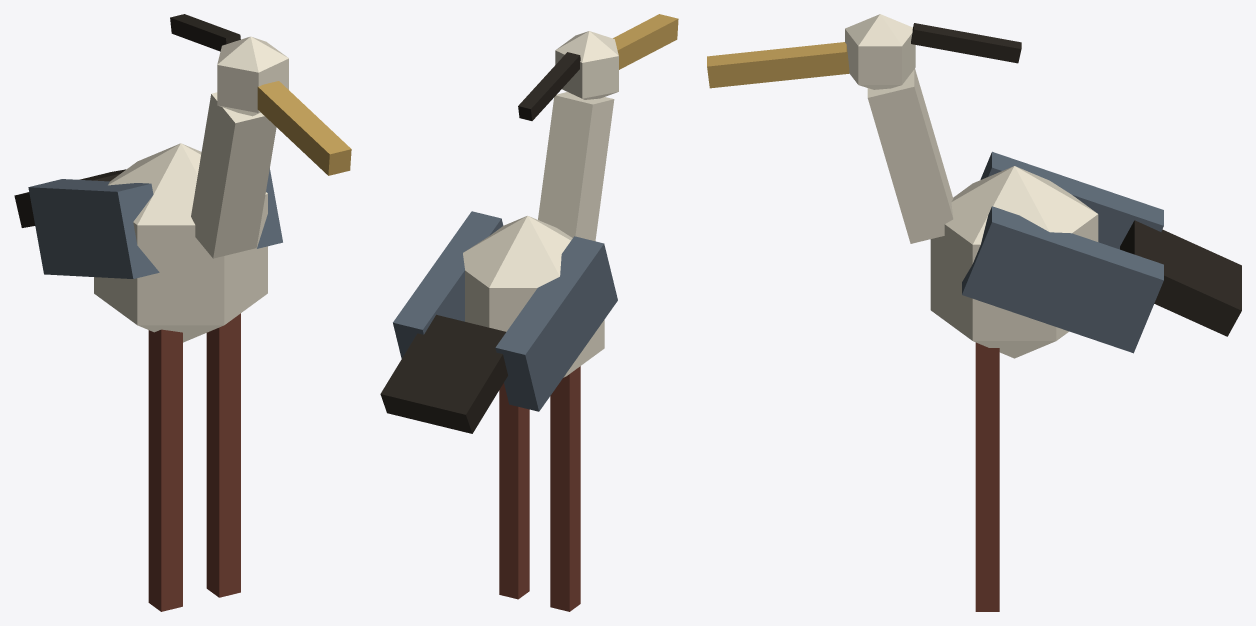
The model's file is animal-heron.glb.
3 renders of one model, left to right at view 1: azimuth 30°, elevation 25°; view 2: azimuth 150°, elevation 25°; view 3: azimuth 270°, elevation 25°, orthographic. The views are drawn at different scales.
Parts seen in each view (by area): view 1: Body, Neck; view 2: Body, Neck; view 3: Body, Neck.
Boxes of the visible parts, x1=… form: Body: x1=14, y1=143, x2=282, y2=611; Neck: x1=170, y1=14, x2=351, y2=258; Body: x1=380, y1=211, x2=617, y2=611; Neck: x1=518, y1=14, x2=678, y2=241; Body: x1=930, y1=151, x2=1241, y2=611; Neck: x1=707, y1=14, x2=1021, y2=243.
Bounding box in the file's own units: 0.31 × 1.19 × 0.996.
Materials: 1 (1 with a texture image).
